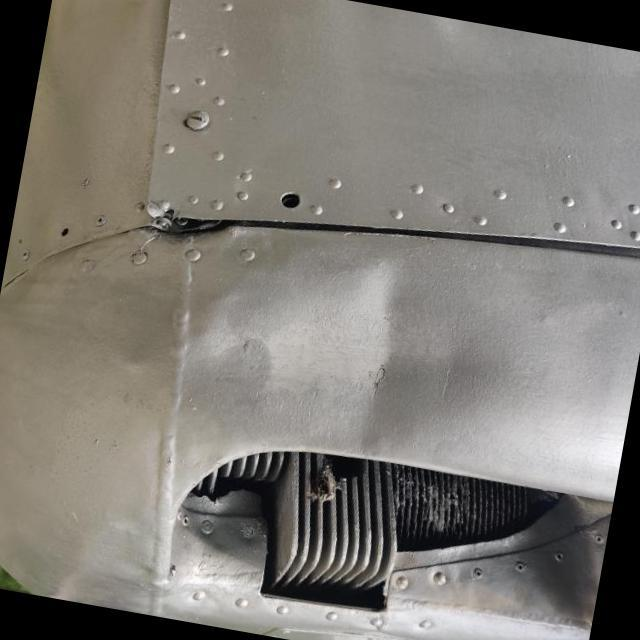Dent: (137, 218, 556, 486)
Fastener Damage: (256, 173, 322, 236)
